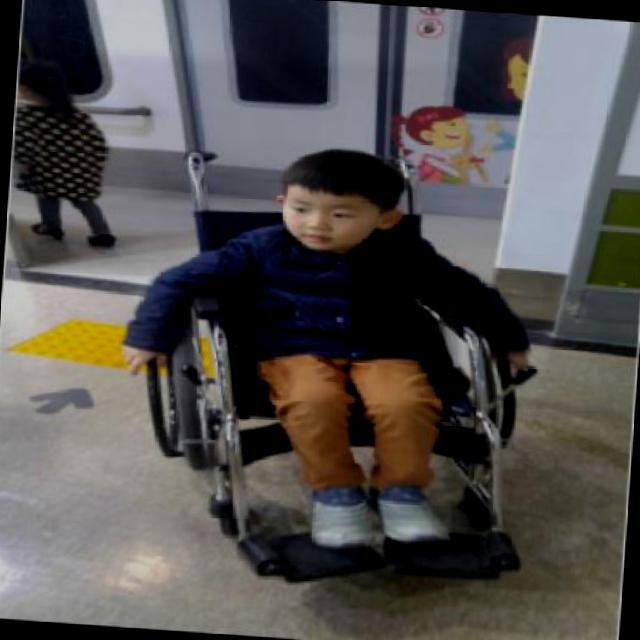Person: (115, 134, 552, 599), (7, 58, 126, 246)
